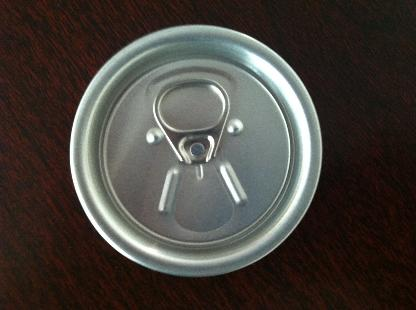Can: (70, 25, 322, 277)
